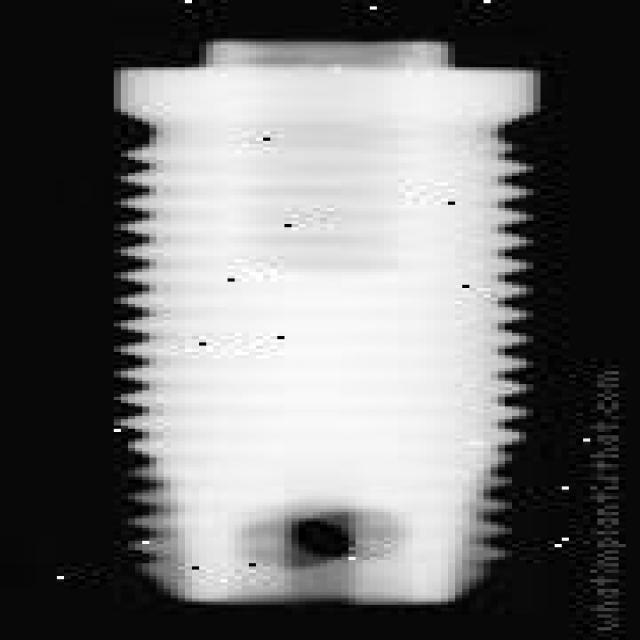Leone Implant: (114, 42, 540, 608)
